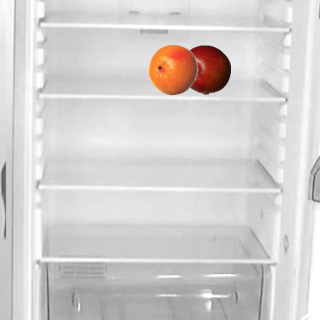Apple Braeburn: (180, 44, 230, 94)
Grapefruit Pink: (147, 44, 197, 94)
